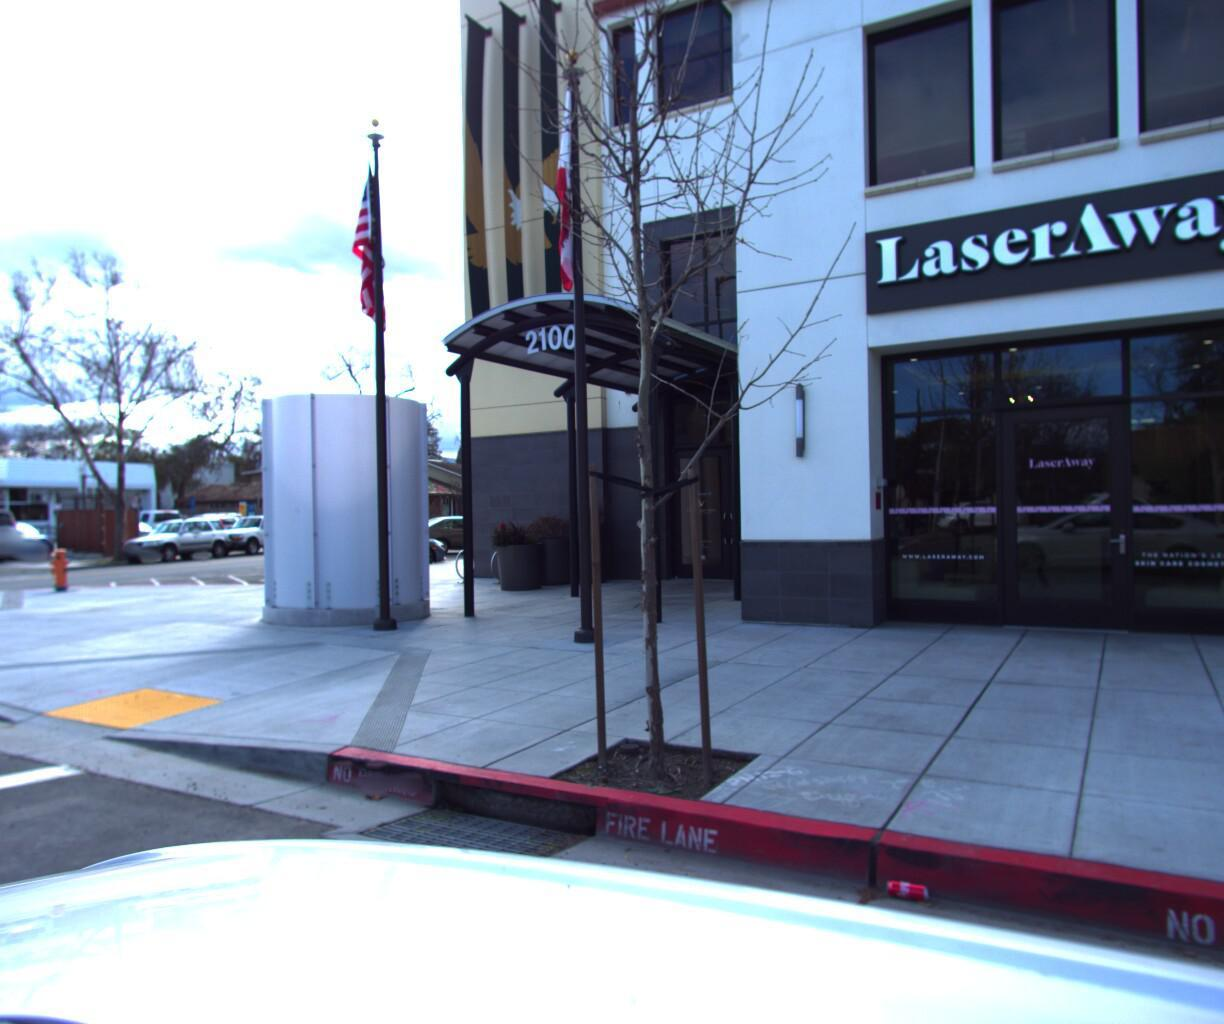car: (108, 514, 234, 564), (394, 513, 532, 554), (108, 505, 222, 553), (199, 510, 318, 555), (152, 508, 263, 550)
